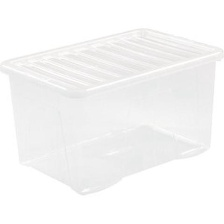plastic_box: (0, 20, 224, 202)
